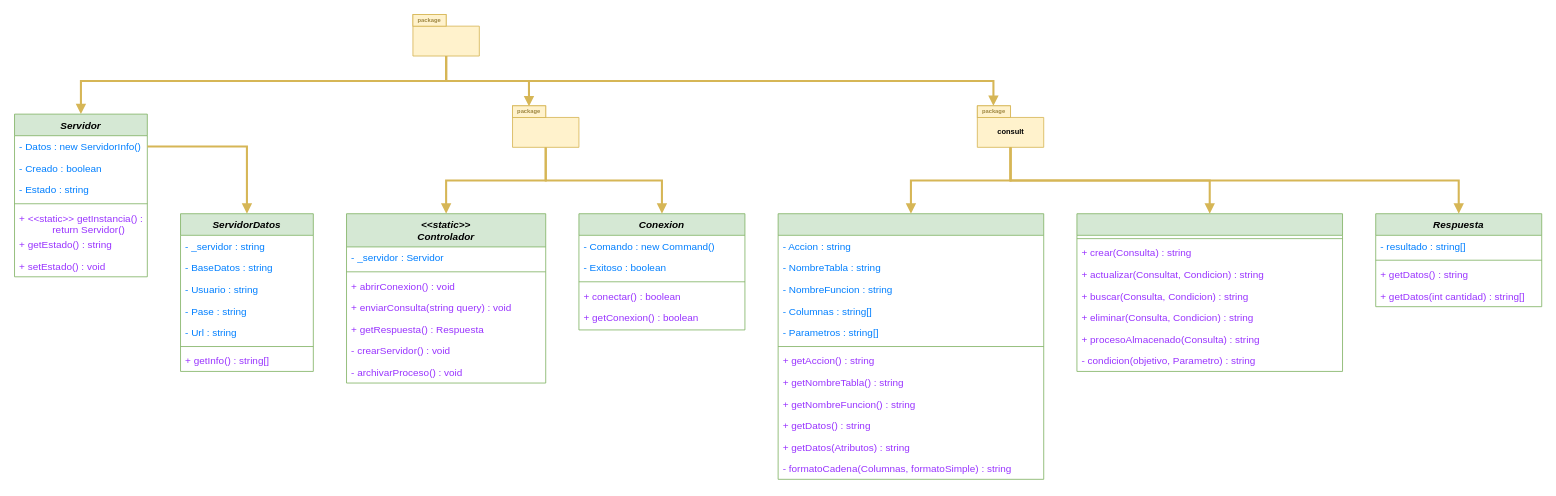
This 1556x496 diagram has some shape labels left out. Here are the shapes that lost their labels. From the top down, the box of each, then its label:
(412, 14, 479, 56): DataBase
(512, 105, 579, 147): connection
(1076, 213, 1343, 371): Query
(777, 213, 1044, 479): Consulta
